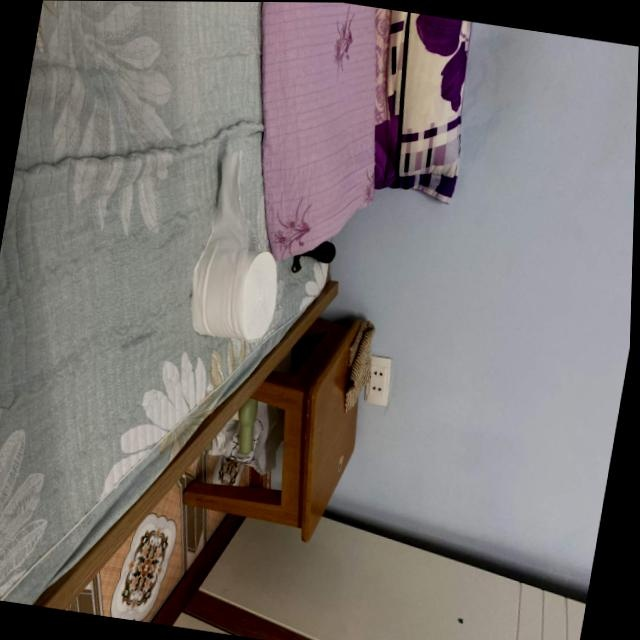outlet: (361, 354, 395, 407)
